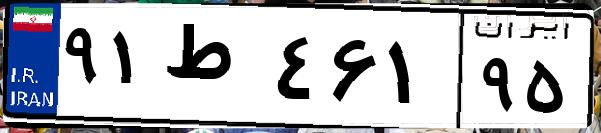1: (385, 28, 445, 110), (110, 28, 158, 98)
4: (270, 28, 330, 110)
5: (525, 38, 570, 115)
6: (330, 28, 385, 110)
9: (57, 26, 110, 100), (475, 38, 525, 113)
ط: (158, 20, 270, 120)
